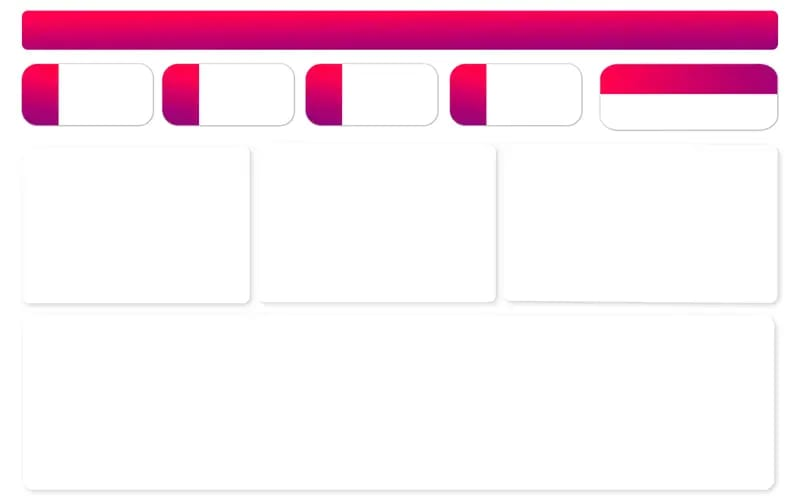

This screenshot's page, from the dashboard's own definition file:
{"tool":"powerbi","page":{"name":"Page 1","canvas":[1280,720],"ordinal":0},"visuals":[{"type":"image","box":[0,13.2,274,56.7],"z":0},{"type":"textbox","box":[230,13.3,590,56.7],"z":1},{"type":"slicer","fields":{"Values":["Sheet1.Patient_ID"]},"box":[980,18.3,243.3,51.7],"z":2},{"type":"card","fields":{"Values":["Min(Sheet1.Admit_Date)"]},"box":[35,103.3,263.3,111.7],"z":3},{"type":"textbox","box":[106.7,103.3,118.3,38.3],"z":5},{"type":"card","fields":{"Values":["Min(Sheet1.Discharge_Date)"]},"box":[261.7,103.3,263.3,111.7],"z":6},{"type":"textbox","box":[326.7,103.3,143.3,38.3],"z":7},{"type":"card","fields":{"Values":["Min(Sheet1.Followup Date)"]},"box":[490,103.3,263.3,111.7],"z":8},{"type":"textbox","box":[35,440.5,378,150],"z":9},{"type":"textbox","box":[548.3,103.3,145,38.3],"z":10},{"type":"textbox","box":[781.4,102.9,147.1,38.6],"z":11},{"type":"card","fields":{"Values":["Sum(Sheet1.Billing Amount)"]},"box":[781.7,141.7,146.7,33.3],"z":12},{"type":"slicer","fields":{"Values":["Sheet1.Admit_Date"]},"box":[980,134.3,242.9,41.4],"z":14},{"type":"image","box":[35,103.3,53.3,56.7],"z":15},{"type":"image","box":[261.7,103.3,50,62],"z":16},{"type":"image","box":[490,110,58.3,48.3],"z":17},{"type":"image","box":[716.7,100,65,75],"z":18},{"type":"columnChart","title":"Bed Occupancy","fields":{"Category":["Sheet1.Bed_Occupancy"],"Y":["CountNonNull(Sheet1.Bed_Occupancy)"]},"box":[35,215,363.3,225],"z":19},{"type":"donutChart","title":"Feedback Volume of Doctor","fields":{"Category":["Sheet1.Doctor"],"Y":["CountNonNull(Sheet1.Doctor)"]},"box":[413.3,215,380,225],"z":20},{"type":"funnel","title":"Diagnosis Type","fields":{"Category":["Sheet1.Diagnosis"],"Y":["CountNonNull(Sheet1.Diagnosis)"]},"box":[808.3,215,438.3,225],"z":21},{"type":"lineChart","title":"Billing Amount VS Sum of Health Insurance Amount ","fields":{"Y":["Sum(Sheet1.Billing Amount)","Sum(Sheet1.Health Insurance Amount)"],"Category":["Sheet1.Diagnosis"]},"box":[35,440,1211.7,256.7],"z":22},{"type":"textbox","box":[1051.4,100,115.7,31.4],"z":23}]}

Visuals, with their boxes on the page's 1280x720 design canvas (x1, y1, x2, y2). These are canvas units, not pixel positions in the 800x500 screenshot, which may show the page scaled, cropped or inside an application window:
image: BBox(0, 13, 274, 70)
textbox: BBox(230, 13, 820, 70)
slicer - Sheet1.Patient_ID: BBox(980, 18, 1223, 70)
card - Min(Sheet1.Admit_Date): BBox(35, 103, 298, 215)
textbox: BBox(107, 103, 225, 142)
card - Min(Sheet1.Discharge_Date): BBox(262, 103, 525, 215)
textbox: BBox(327, 103, 470, 142)
card - Min(Sheet1.Followup Date): BBox(490, 103, 753, 215)
textbox: BBox(35, 440, 413, 590)
textbox: BBox(548, 103, 693, 142)
textbox: BBox(781, 103, 928, 142)
card - Sum(Sheet1.Billing Amount): BBox(782, 142, 928, 175)
slicer - Sheet1.Admit_Date: BBox(980, 134, 1223, 176)
image: BBox(35, 103, 88, 160)
image: BBox(262, 103, 312, 165)
image: BBox(490, 110, 548, 158)
image: BBox(717, 100, 782, 175)
"Bed Occupancy" columnChart: BBox(35, 215, 398, 440)
"Feedback Volume of Doctor" donutChart: BBox(413, 215, 793, 440)
"Diagnosis Type" funnel: BBox(808, 215, 1247, 440)
"Billing Amount VS Sum of Health Insurance Amount " lineChart: BBox(35, 440, 1247, 697)
textbox: BBox(1051, 100, 1167, 131)
